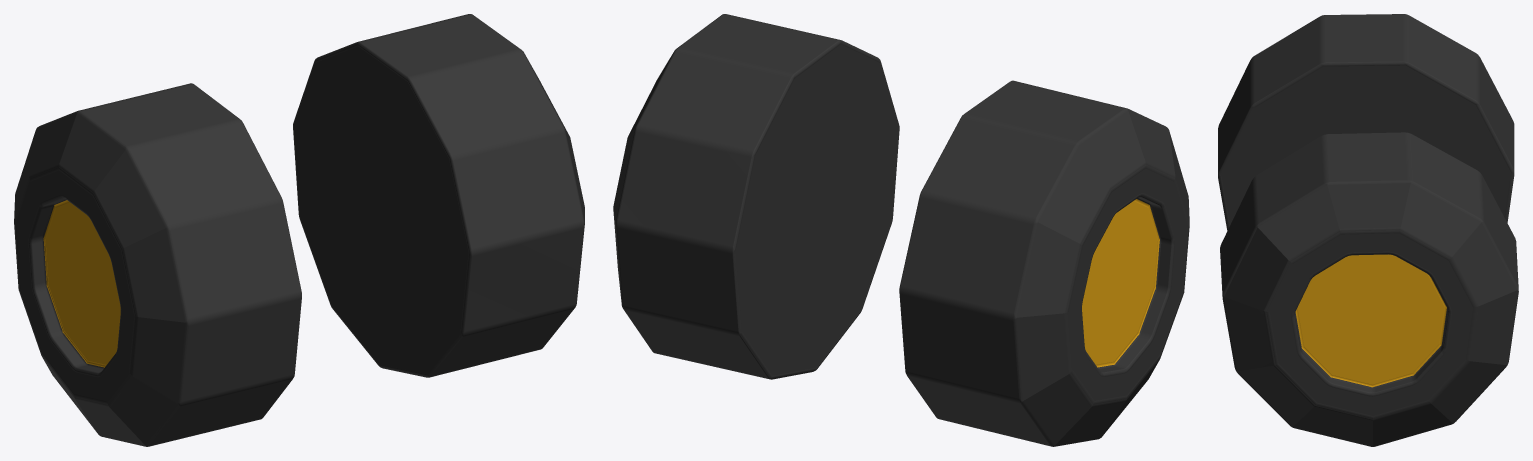
Rendered from Wheel Back.fbx.
3 views of the same model, side by side, from view 1: azimuth 30°, elevation 25°; view 2: azimuth 150°, elevation 25°; view 3: azimuth 270°, elevation 25° (orthographic). The views are drawn at different scales.
Visible parts, largest first — view 1: Cylinder.001; view 2: Cylinder.001; view 3: Cylinder.001.
Boxes of the visible parts, bbox=[...] form: Cylinder.001: bbox=[14, 14, 584, 446]; Cylinder.001: bbox=[613, 14, 1189, 446]; Cylinder.001: bbox=[1218, 14, 1518, 446].
Size of the model in its own units: 255 by 168 by 171.
